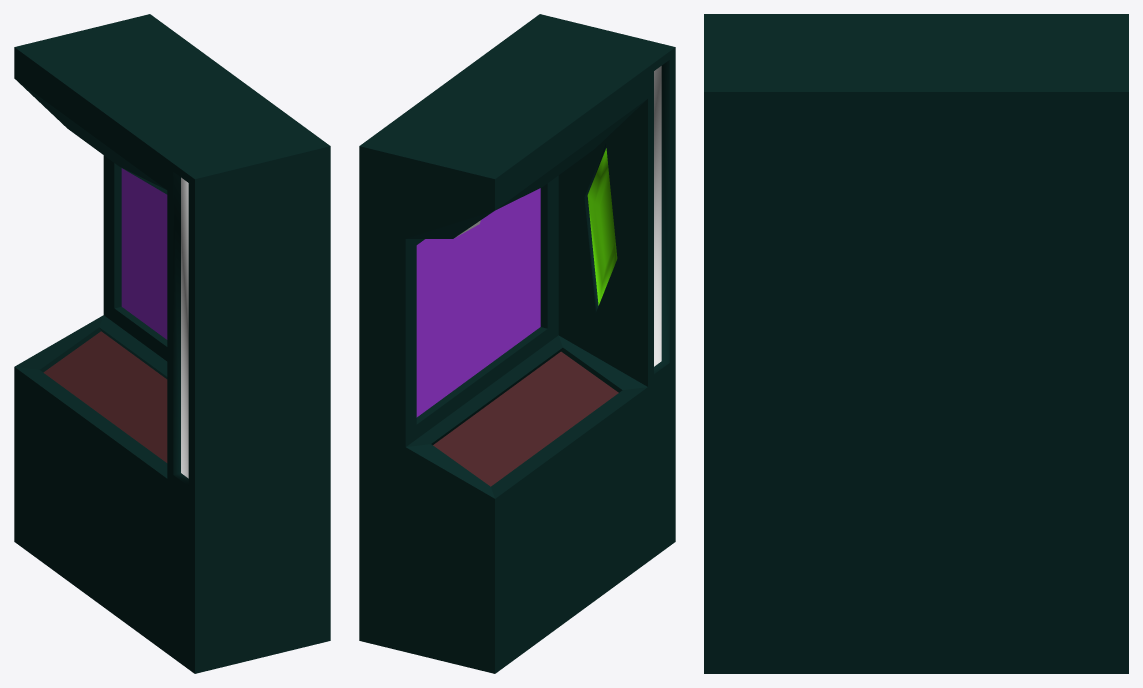
Rendered from Screen Gooby.fbx.
The picture shows the model from 3 angles, left to right: view 1: azimuth 30°, elevation 25°; view 2: azimuth 150°, elevation 25°; view 3: azimuth 270°, elevation 25°; orthographic projection. The views are drawn at different scales.
Parts seen in each view (by area): view 1: Cube; view 2: Cube; view 3: Cube.
Part boxes in pixels (left/top/right/bottom): Cube: left=14, top=14, right=330, bottom=673; Cube: left=359, top=14, right=675, bottom=673; Cube: left=704, top=14, right=1128, bottom=673.
Size of the model in its own units: 218 by 759 by 502.
